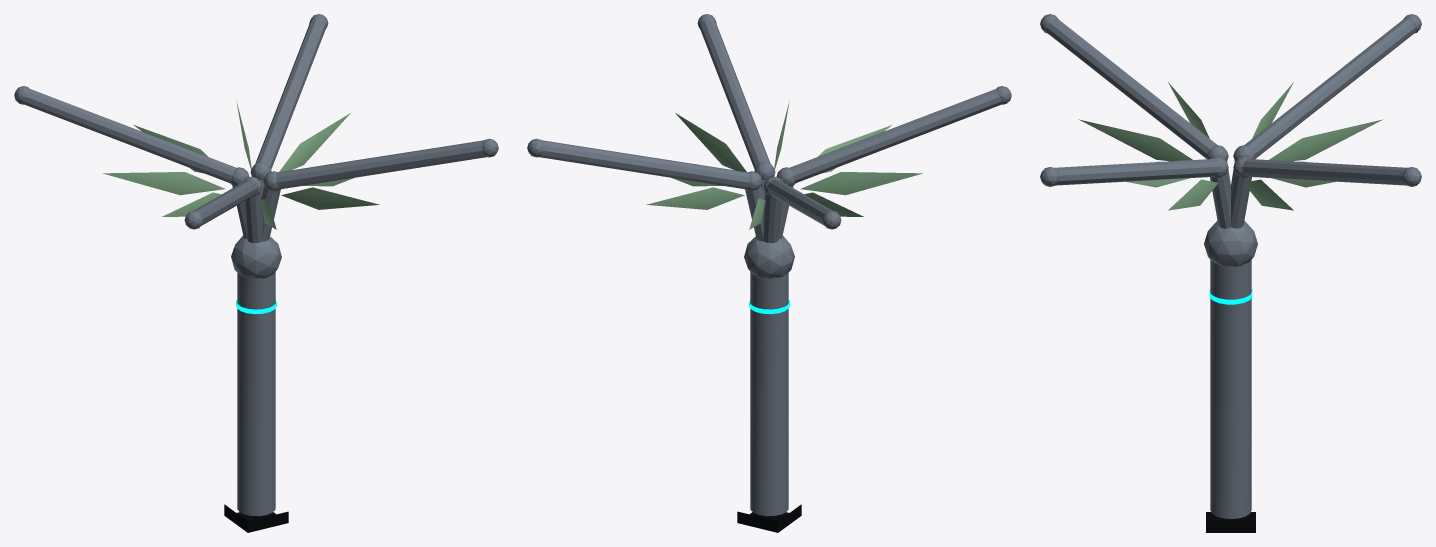
Rendered from tt_tree_column_west.glb.
The picture shows the model from 3 angles, left to right: view 1: azimuth 30°, elevation 25°; view 2: azimuth 150°, elevation 25°; view 3: azimuth 270°, elevation 25°; orthographic projection. The views are drawn at different scales.
Parts seen in each view (by area): view 1: Tree_Steel, Leaf_Capital, Pin_Shoe; view 2: Tree_Steel, Leaf_Capital, Pin_Shoe; view 3: Tree_Steel, Leaf_Capital, Pin_Shoe.
Part boxes in pixels (<box>): Tree_Steel: <box>14,14,498,516</box>; Leaf_Capital: <box>103,102,379,229</box>; Pin_Shoe: <box>224,504,288,532</box>; Tree_Steel: <box>527,14,1011,516</box>; Leaf_Capital: <box>646,102,922,229</box>; Pin_Shoe: <box>737,504,801,532</box>; Tree_Steel: <box>1040,14,1421,518</box>; Leaf_Capital: <box>1078,82,1383,210</box>; Pin_Shoe: <box>1206,512,1255,532</box>.
Size of what is drawn, in the model's own units: 8.45 by 10.52 by 8.45.
4 materials, 2 textured.
